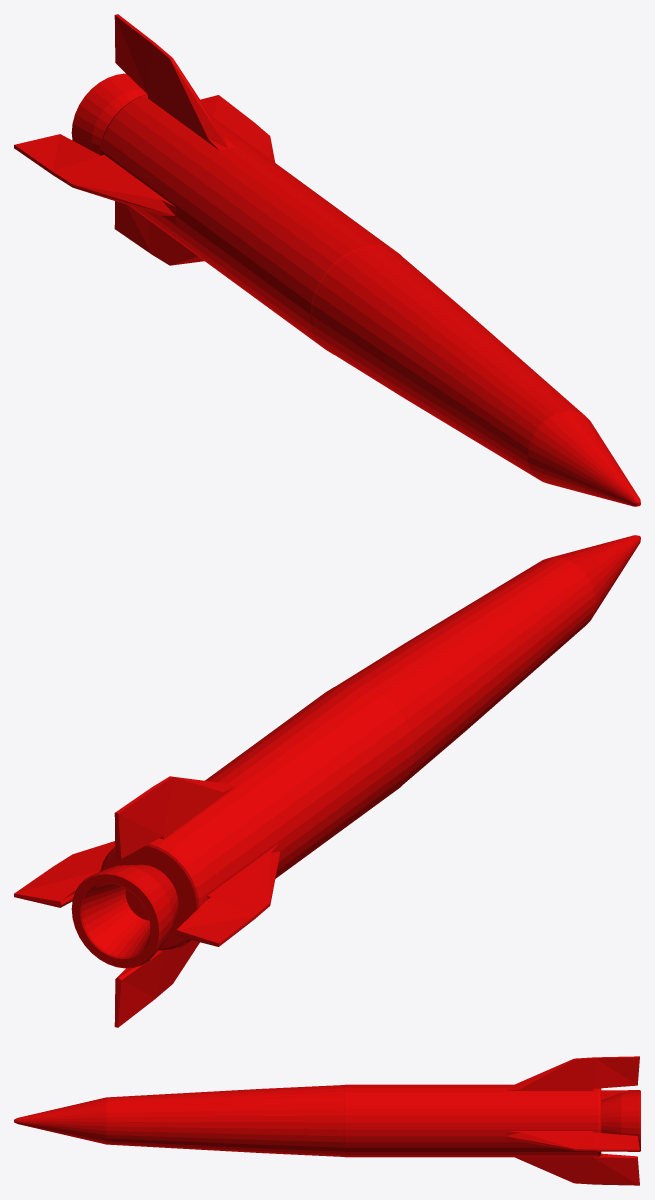
Rendered from TBM_Red.glb.
3 renders of one model, top to bottom at view 1: azimuth 30°, elevation 25°; view 2: azimuth 150°, elevation 25°; view 3: azimuth 270°, elevation 25°, orthographic. The views are drawn at different scales.
Visible parts, largest first — view 1: Cylinder00; view 2: Cylinder00; view 3: Cylinder00.
Part boxes in pixels (x1=…): Cylinder00: x1=14, y1=14, x2=640, y2=506; Cylinder00: x1=14, y1=535, x2=640, y2=1027; Cylinder00: x1=14, y1=1056, x2=640, y2=1185.
Bounding box in the file's own units: 0.3549 × 0.3549 × 1.57.
